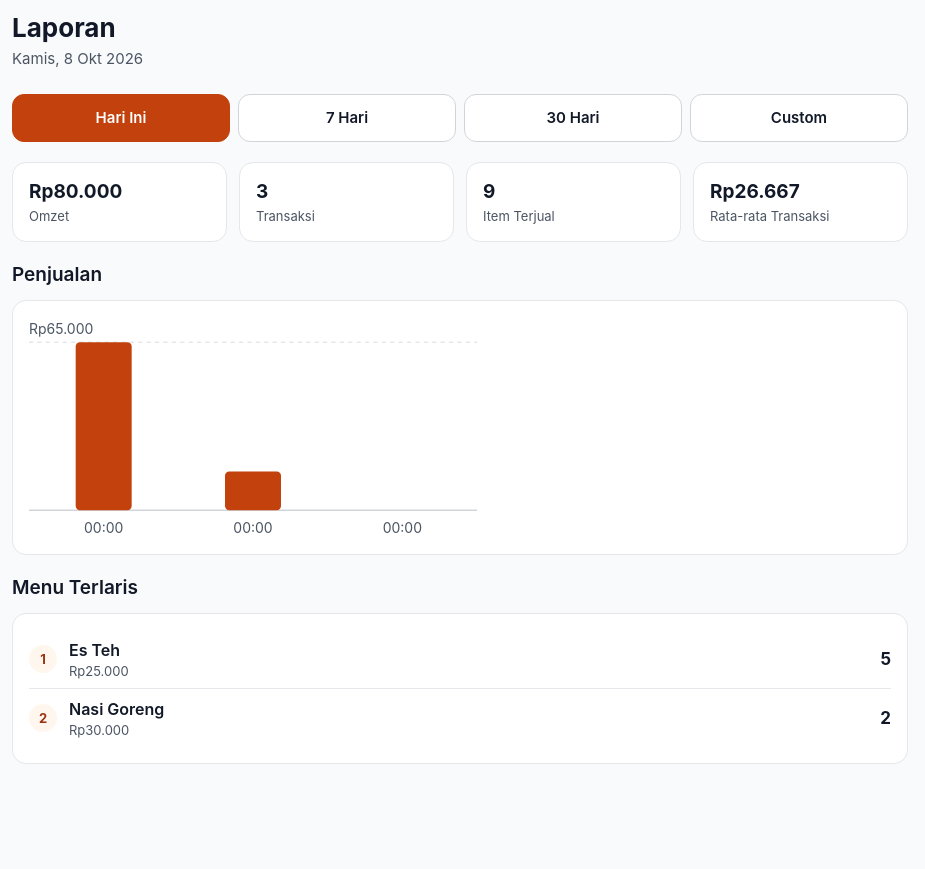
ReportDashboard › Custom range › explains a reversed range and sends no request for it
Expected: the element "Omzet" is shown, [12,162,227,242]
Step 1. Click the button "Custom" → (799, 118), box [690,94,908,142]
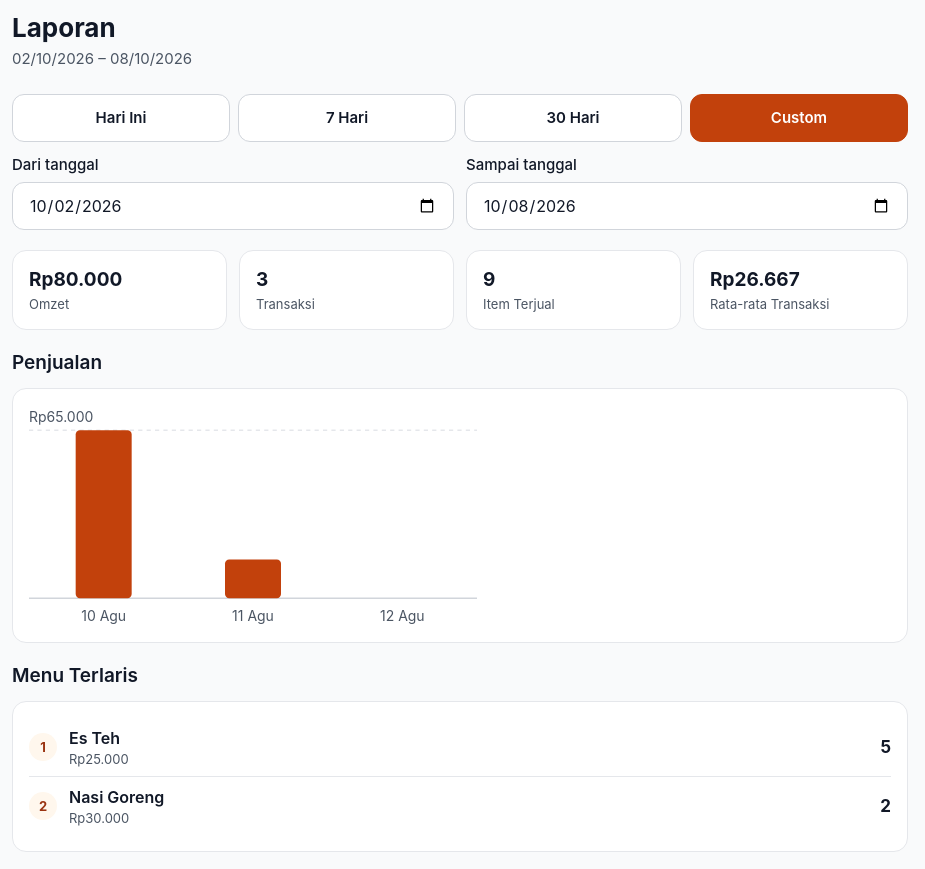
Expected: the element "Omzet" is shown, [12,250,227,330]
# "Dari tanggal" starts at 2 Oct, so an end date of 10 Aug is before the start.
Step 2. Type "2026-08-10" into the date field labelled "Sampai tanggal" → (687, 206), box [466,182,908,230]
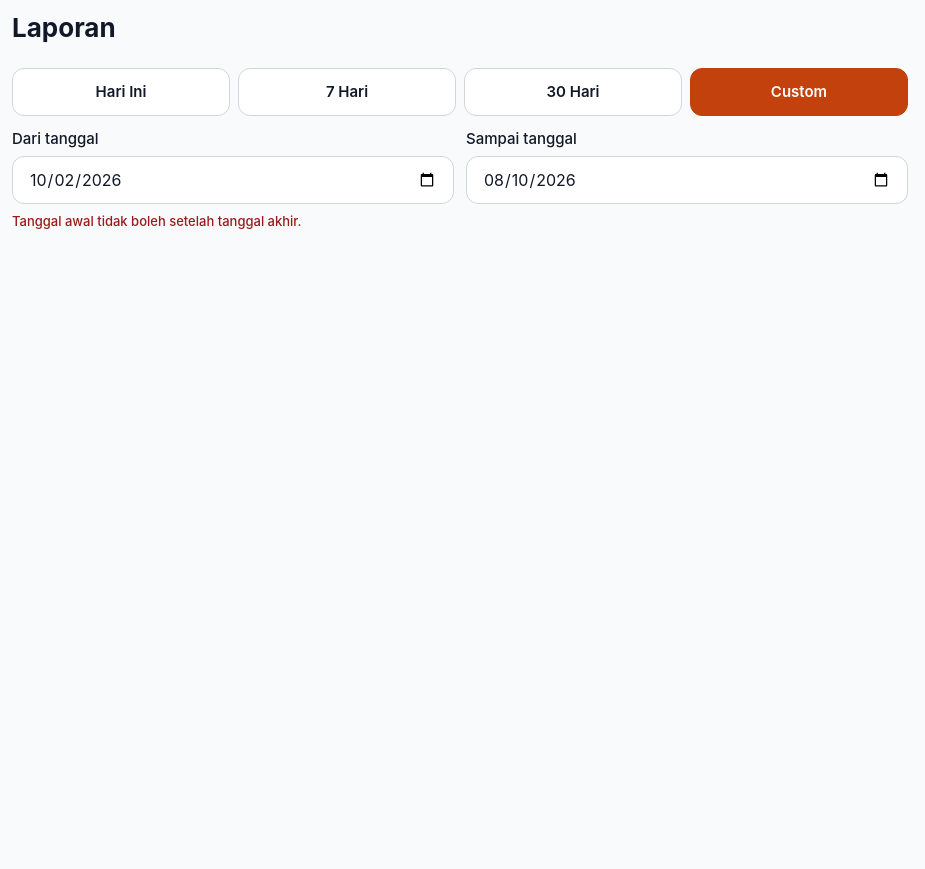
Now the message shows "Tanggal awal tidak boleh setelah tanggal akhir", box [12,213,302,229]
Now the text "Omzet" is gone
